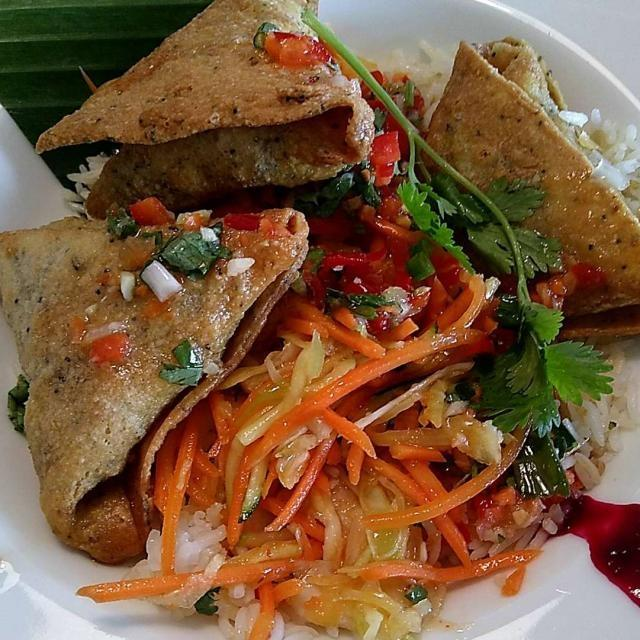mixed-vegetables: (103, 240, 562, 621)
